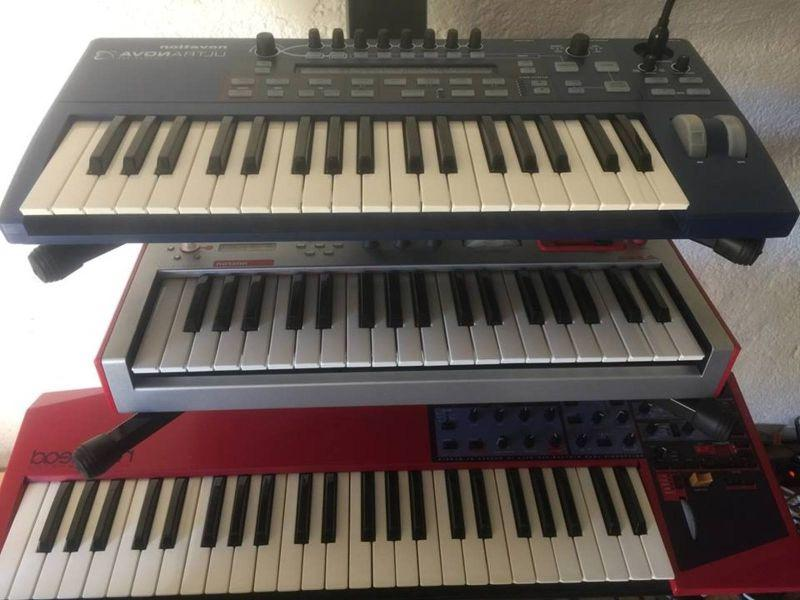synthesizer: (23, 22, 783, 242), (22, 403, 786, 586), (92, 248, 732, 395)
